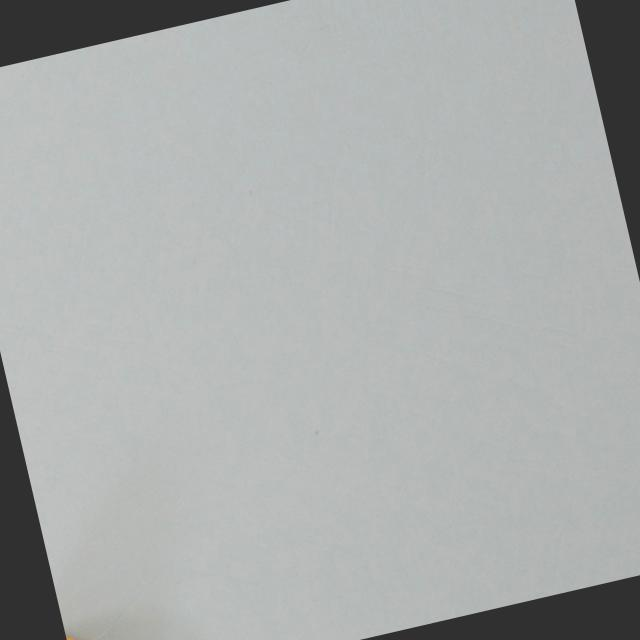entero: (61, 603, 143, 640)
